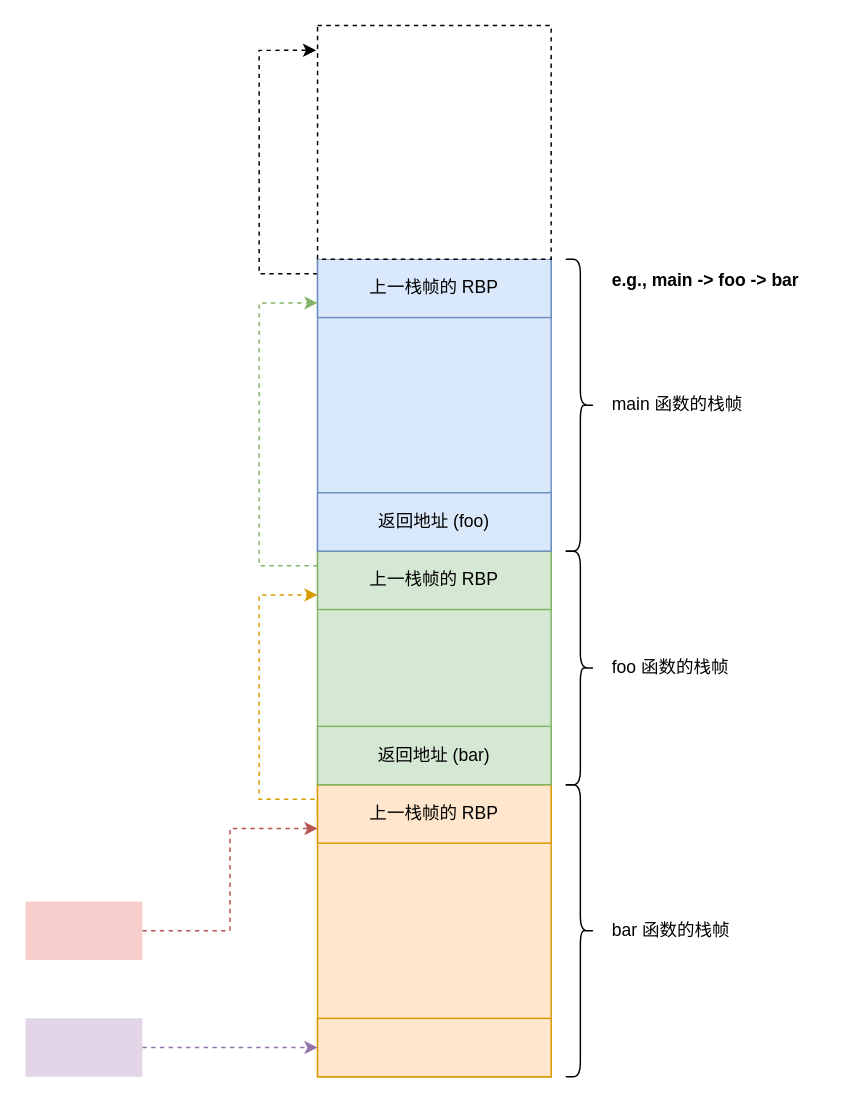
Some shapes in this 853 by 1102 pixel diagram are drawn without their labels. The shapes that lost their labels are listed below. From the top down, each one's centre as x and y in pixels, then its label:
At (433,141): "更早的帧".
At (83,930): "帧指针 RBP".
At (83,1047): "栈指针 RSP".
